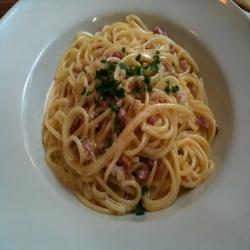carbonara: (36, 16, 222, 217)
